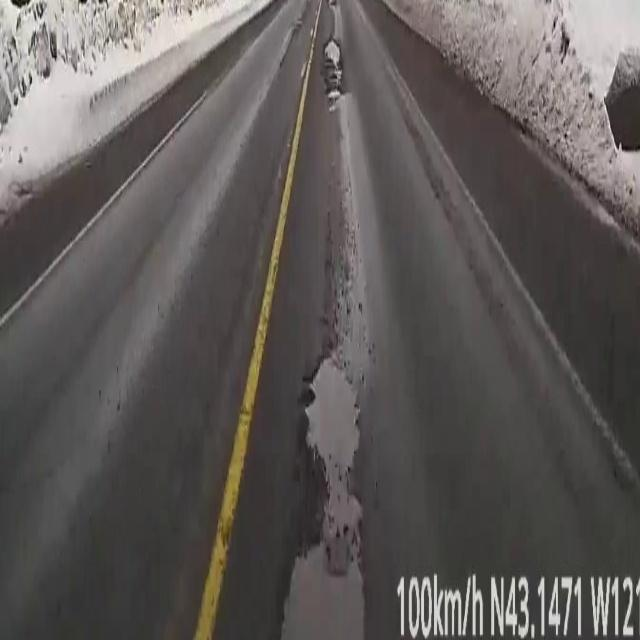pothole: (273, 346, 374, 640), (324, 39, 342, 104)
